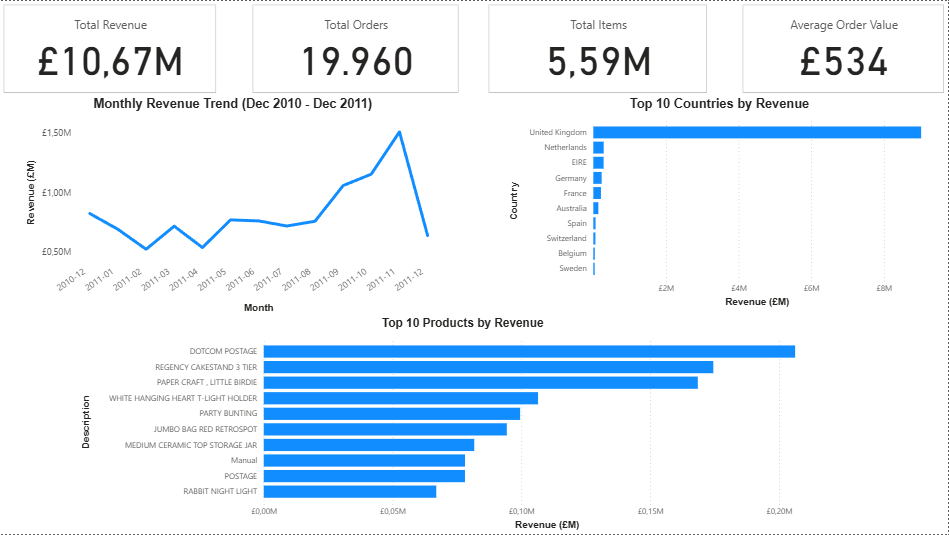

The page's visual inventory and layout, read from the dashboard file:
{"tool":"powerbi","page":{"name":"Page 1","canvas":[1280,720],"ordinal":0},"visuals":[{"type":"cardVisual","title":"Total Revenue","fields":{"Data":["Max(kpi_summary csv.total_revenue)"]},"box":[0,0,297,129],"z":0},{"type":"cardVisual","fields":{"Data":["Max(kpi_summary csv.total_orders)"]},"box":[337,0,288,129],"z":1000},{"type":"cardVisual","fields":{"Data":["Max(kpi_summary csv.total_items)"]},"box":[655,0,305,129],"z":2000},{"type":"cardVisual","fields":{"Data":["Sum(kpi_summary csv.avg_order_value)"]},"box":[998,0,282,129],"z":3000},{"type":"lineChart","title":"Monthly Revenue Trend (Dec 2010 - Dec 2011)","fields":{"Y":["Sum(monthly_revenue csv.rev)"],"Category":["monthly_revenue csv.ym"]},"box":[31,129,567,298],"z":4000},{"type":"clusteredBarChart","title":"Top 10 Countries by Revenue","fields":{"Category":["top_countries csv.Country"],"Y":["Sum(top_countries csv.rev)"]},"box":[684,129,577,290],"z":5000},{"type":"clusteredBarChart","title":"Top 10 Products by Revenue","fields":{"Category":["top_products csv.description"],"Y":["Sum(top_products csv.rev)"]},"box":[105,427,1040,293],"z":6000}]}

Visuals, with their boxes in screenshot pixels (x1, y1, x2, y2), scaled from the page's 1280x720 canvas onto the 949x535 screenshot:
"Total Revenue" cardVisual: [x1=0, y1=0, x2=220, y2=96]
cardVisual - Max(kpi_summary csv.total_orders): [x1=250, y1=0, x2=463, y2=96]
cardVisual - Max(kpi_summary csv.total_items): [x1=486, y1=0, x2=712, y2=96]
cardVisual - Sum(kpi_summary csv.avg_order_value): [x1=740, y1=0, x2=948, y2=96]
"Monthly Revenue Trend (Dec 2010 - Dec 2011)" lineChart: [x1=23, y1=96, x2=443, y2=317]
"Top 10 Countries by Revenue" clusteredBarChart: [x1=507, y1=96, x2=935, y2=311]
"Top 10 Products by Revenue" clusteredBarChart: [x1=78, y1=317, x2=849, y2=534]
